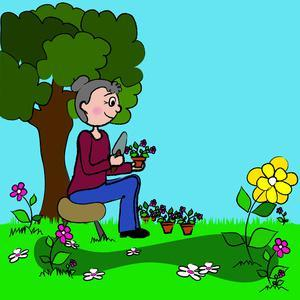person: (61, 72, 154, 238)
pottedplant: (122, 138, 157, 169), (175, 206, 206, 235), (154, 203, 182, 235), (136, 198, 161, 222)
